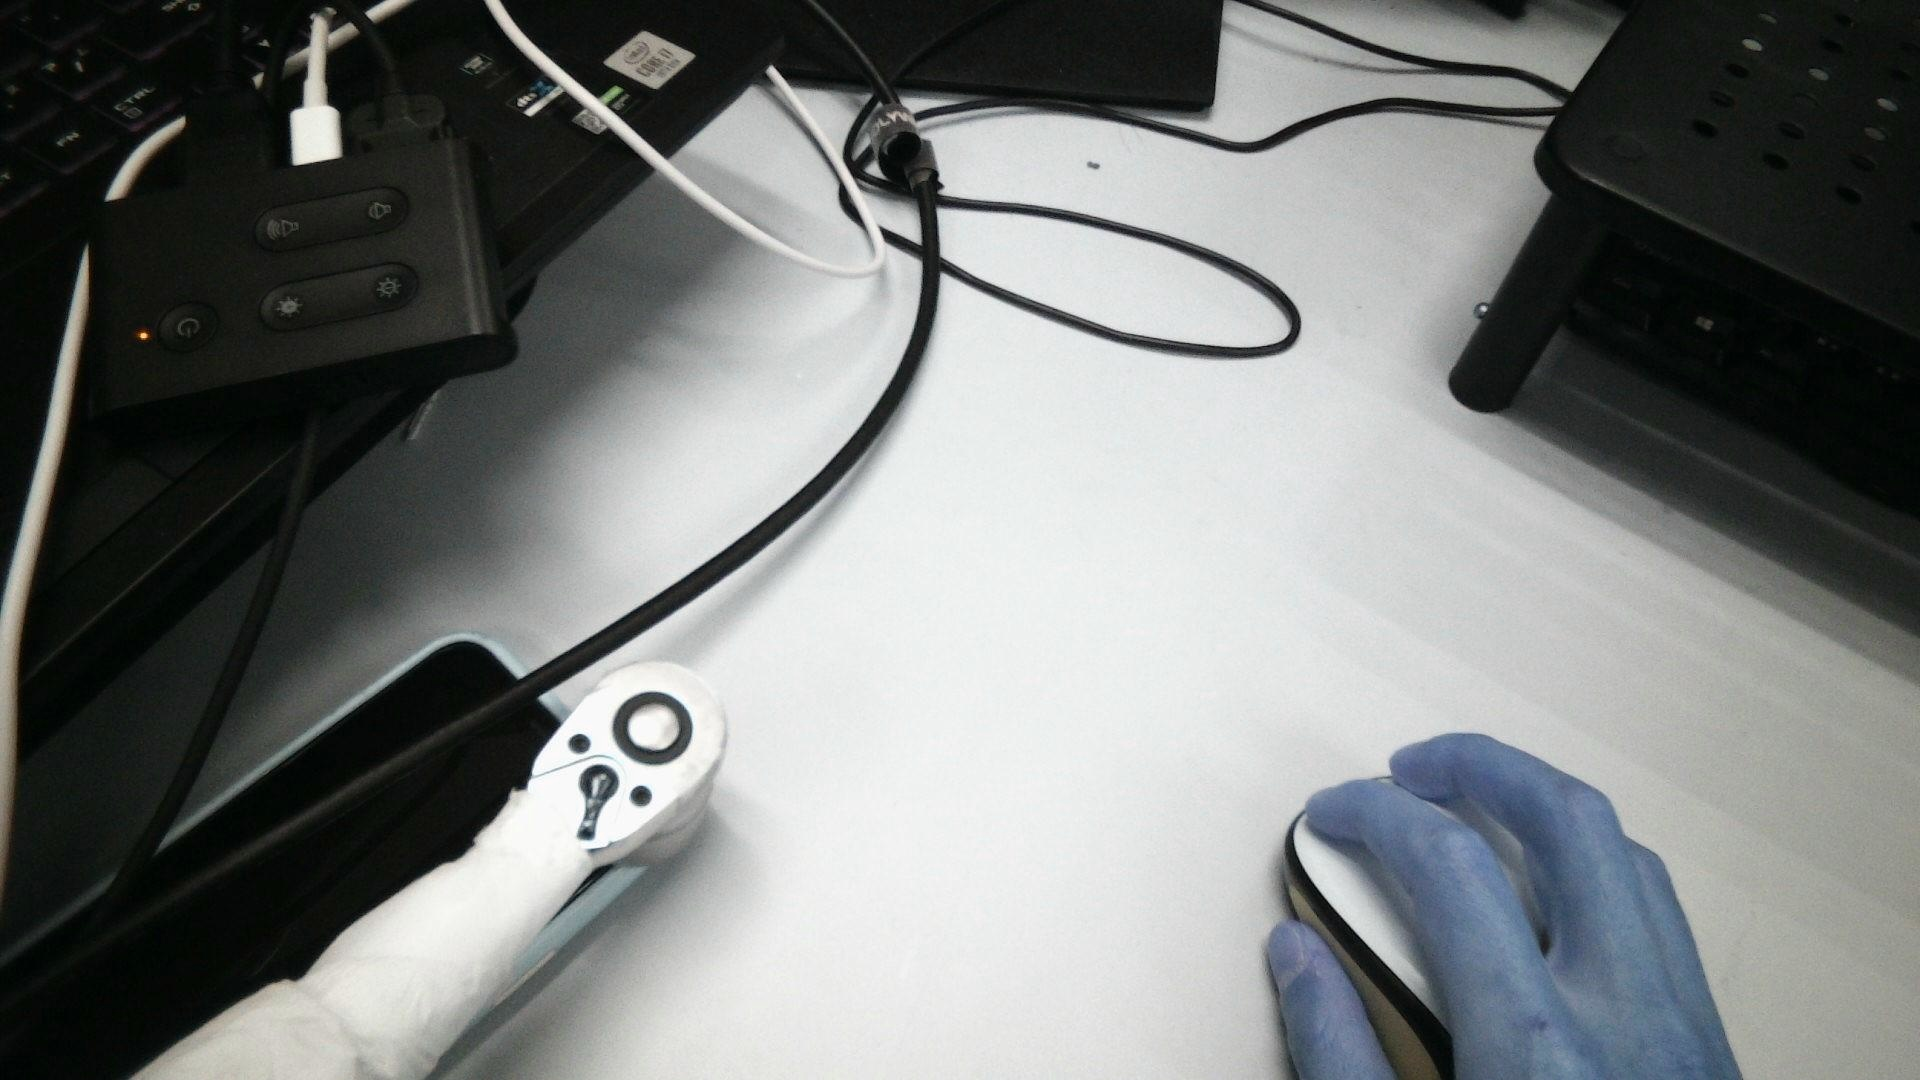wrench: (607, 690, 688, 766)
